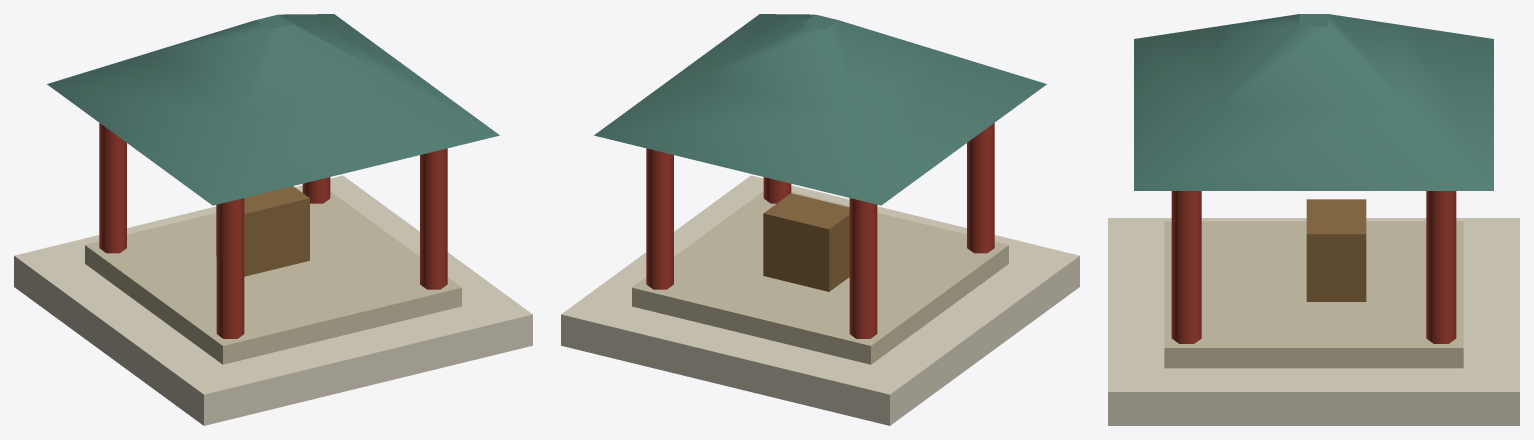
Rendered from jiang_dao_fen_feng.glb.
The picture shows the model from 3 angles, left to right: view 1: azimuth 30°, elevation 25°; view 2: azimuth 150°, elevation 25°; view 3: azimuth 270°, elevation 25°; orthographic projection. The views are drawn at different scales.
Parts seen in each view (by area): view 1: _MeshInstance3D_104, _MeshInstance3D_98, _MeshInstance3D_99, _MeshInstance3D_105, _MeshInstance3D_101, _MeshInstance3D_103, _MeshInstance3D_100, _MeshInstance3D_102; view 2: _MeshInstance3D_104, _MeshInstance3D_98, _MeshInstance3D_99, _MeshInstance3D_105, _MeshInstance3D_100, _MeshInstance3D_102, _MeshInstance3D_101, _MeshInstance3D_103; view 3: _MeshInstance3D_104, _MeshInstance3D_98, _MeshInstance3D_99, _MeshInstance3D_105, _MeshInstance3D_102, _MeshInstance3D_103.
Part boxes in pixels (x1=…): _MeshInstance3D_104: x1=47, y1=14, x2=499, y2=205; _MeshInstance3D_98: x1=14, y1=175, x2=532, y2=425; _MeshInstance3D_99: x1=85, y1=191, x2=461, y2=364; _MeshInstance3D_105: x1=216, y1=186, x2=309, y2=276; _MeshInstance3D_101: x1=216, y1=198, x2=244, y2=338; _MeshInstance3D_103: x1=420, y1=148, x2=447, y2=289; _MeshInstance3D_100: x1=99, y1=123, x2=126, y2=253; _MeshInstance3D_102: x1=302, y1=177, x2=330, y2=203; _MeshInstance3D_104: x1=594, y1=14, x2=1046, y2=205; _MeshInstance3D_98: x1=561, y1=175, x2=1079, y2=425; _MeshInstance3D_99: x1=632, y1=191, x2=1008, y2=364; _MeshInstance3D_105: x1=763, y1=193, x2=849, y2=291; _MeshInstance3D_100: x1=849, y1=198, x2=877, y2=338; _MeshInstance3D_102: x1=646, y1=148, x2=673, y2=289; _MeshInstance3D_101: x1=967, y1=123, x2=994, y2=253; _MeshInstance3D_103: x1=763, y1=177, x2=791, y2=203; _MeshInstance3D_104: x1=1134, y1=14, x2=1493, y2=190; _MeshInstance3D_98: x1=1108, y1=218, x2=1519, y2=425; _MeshInstance3D_99: x1=1164, y1=221, x2=1463, y2=368; _MeshInstance3D_105: x1=1306, y1=199, x2=1366, y2=301; _MeshInstance3D_102: x1=1426, y1=191, x2=1456, y2=343; _MeshInstance3D_103: x1=1171, y1=191, x2=1201, y2=343.
Bounding box in the file's own units: 1.1 × 0.94 × 1.1.
